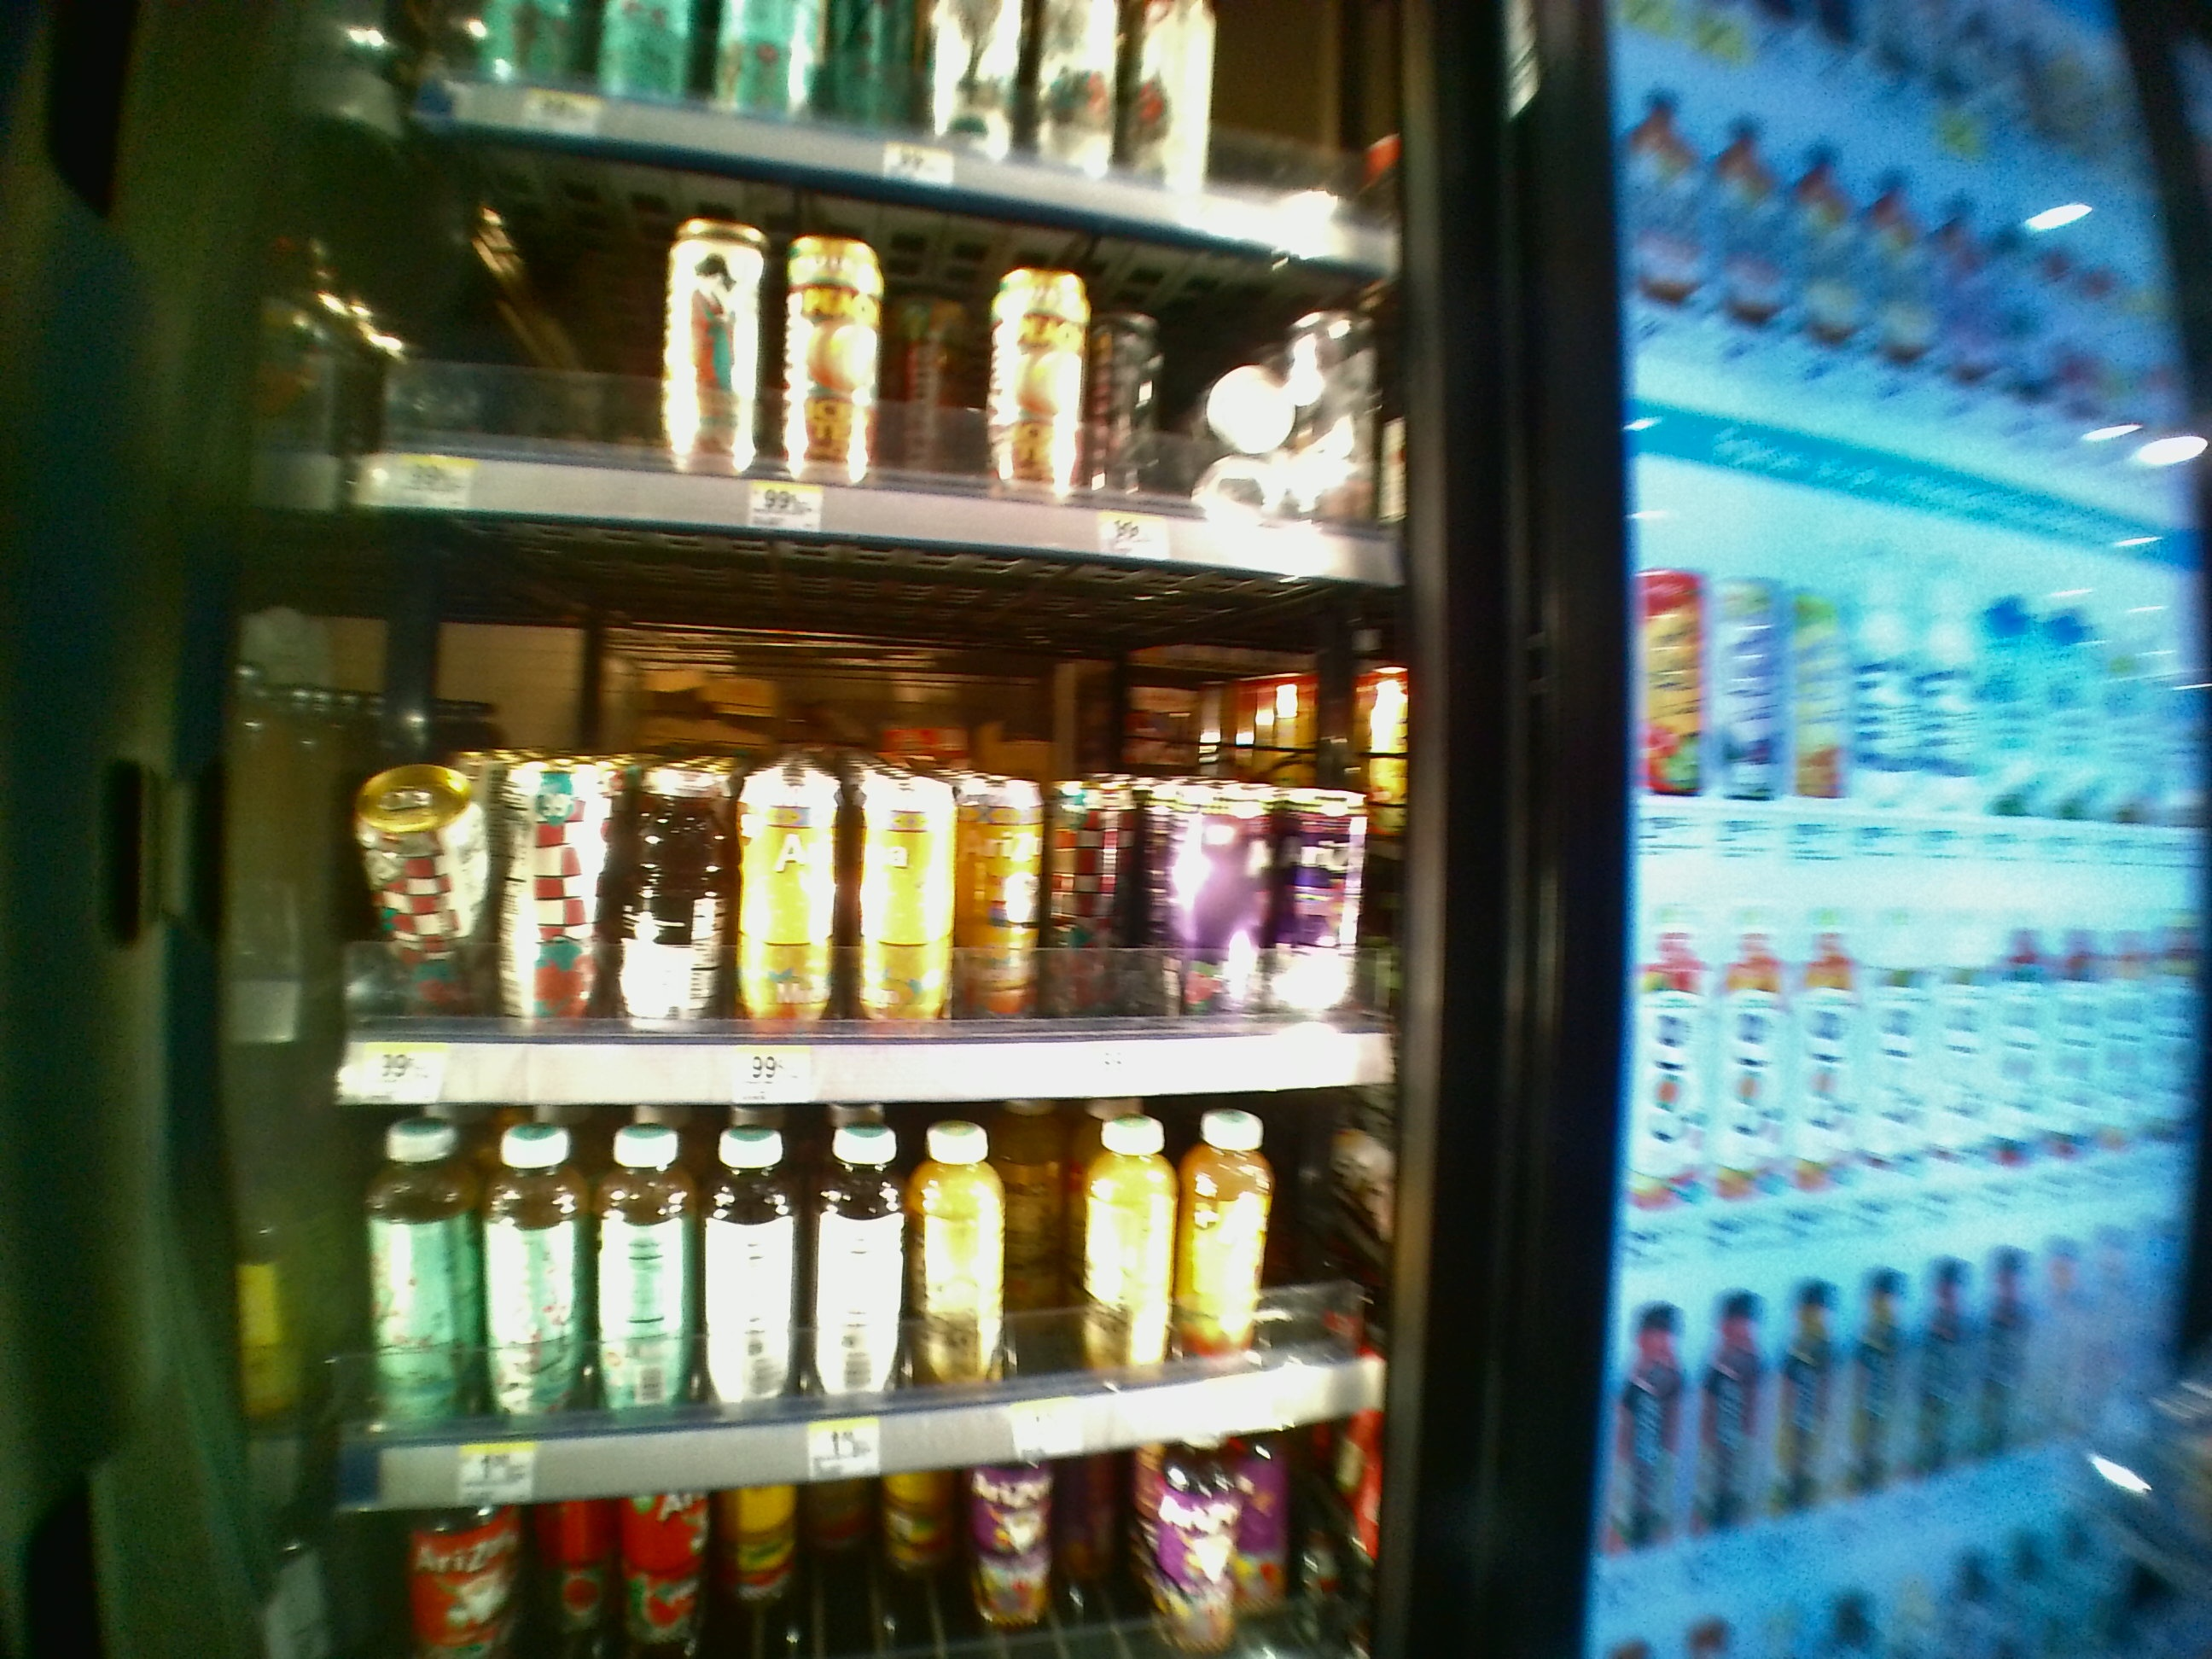shelf: (329, 516, 1411, 1103)
